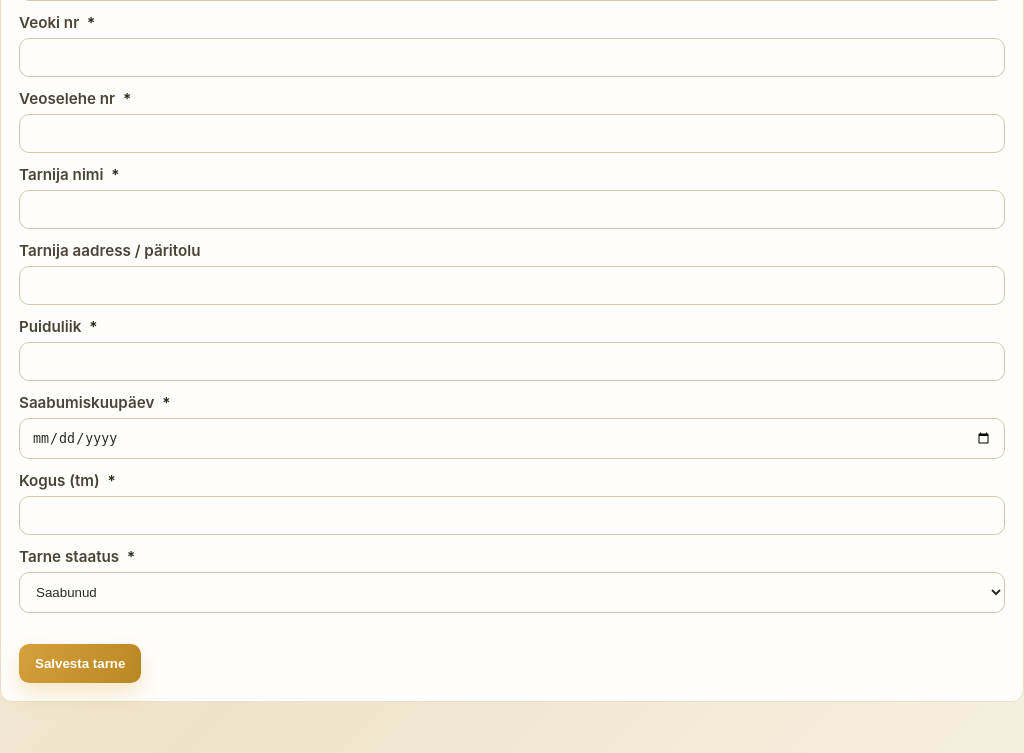
Test: DeliveryForm › shows error when submitting empty form
(page scrolled)
What coordinates should you click on to do the following:
click the button "Salvesta tarne"
I would click on:
 (80, 664)
Its box is [19,644,141,683].
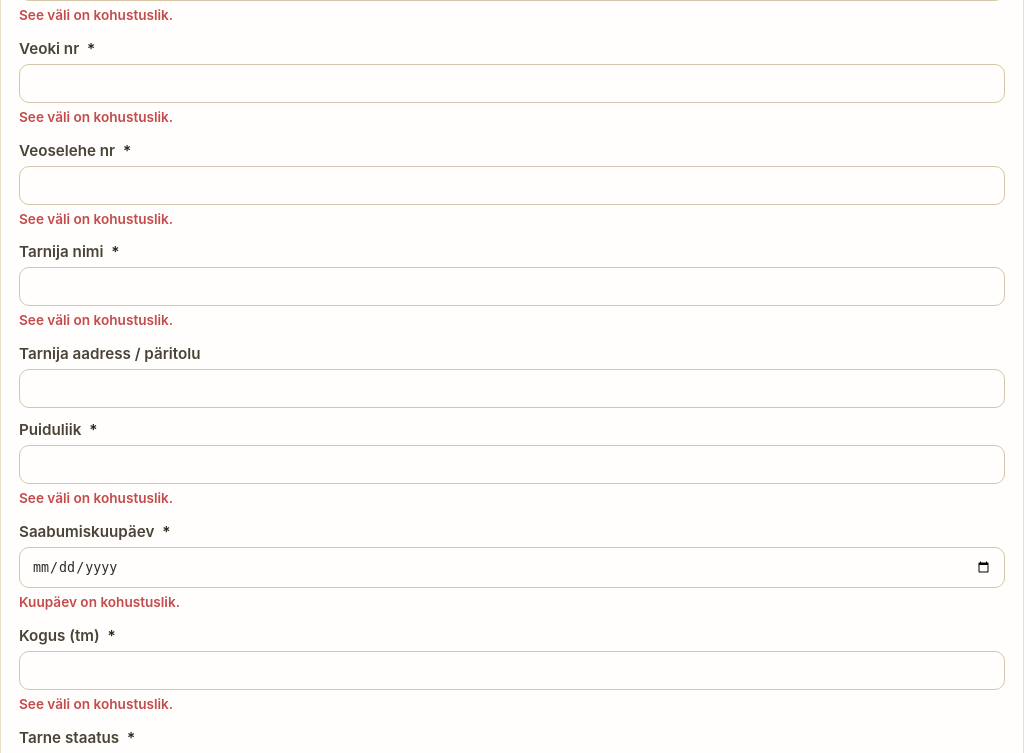
Result: the text "See väli on kohustuslik." below "Juhi nimi" is shown at [19,7,173,23]
